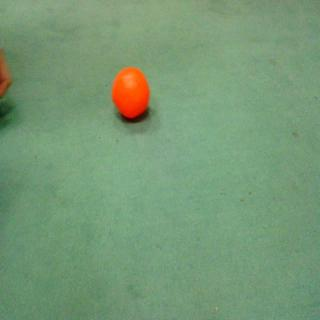orange: (105, 64, 151, 128)
